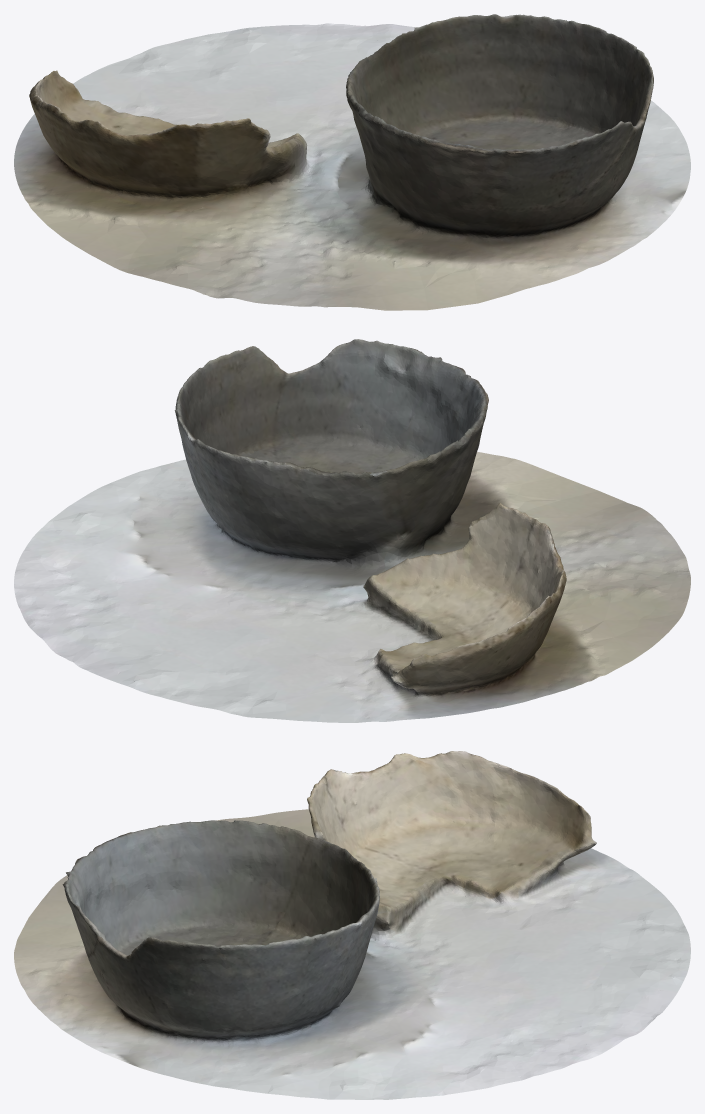
Rendered from model06_small.glb.
3 views of the same model, one above another, from view 1: azimuth 30°, elevation 25°; view 2: azimuth 150°, elevation 25°; view 3: azimuth 270°, elevation 25° (orthographic).
Visible parts, largest first — view 1: mesh; view 2: mesh; view 3: mesh.
Boxes of the visible parts, <box> form: mesh: <box>14,14,690,310</box>; mesh: <box>14,339,690,722</box>; mesh: <box>14,751,690,1099</box>.
Size of the model in its own units: 0.3448 by 0.0678 by 0.3432.
1 material, 1 textured.
